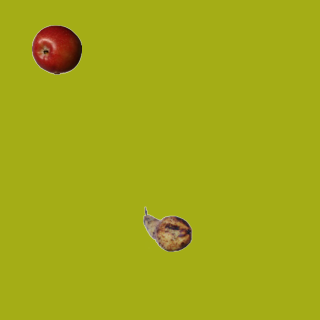Apple Braeburn: (31, 24, 81, 74)
Pear Abate: (142, 204, 192, 254)
